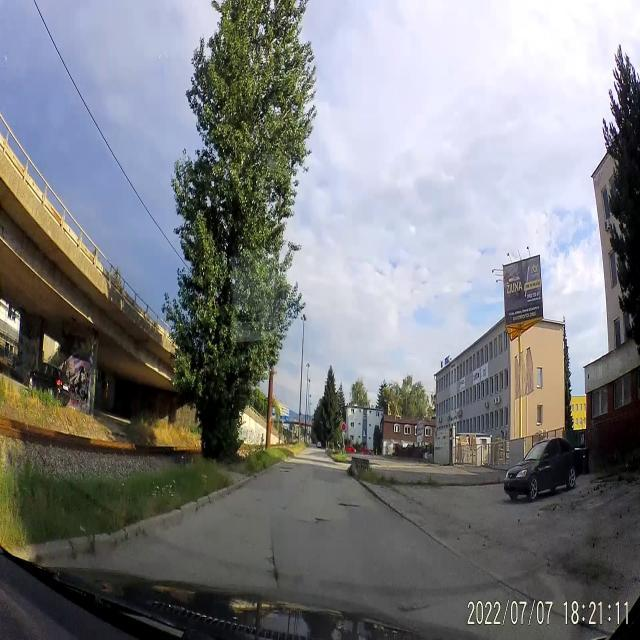Pothole: (266, 533, 280, 587), (400, 600, 428, 620), (338, 495, 360, 515), (306, 512, 332, 528)
